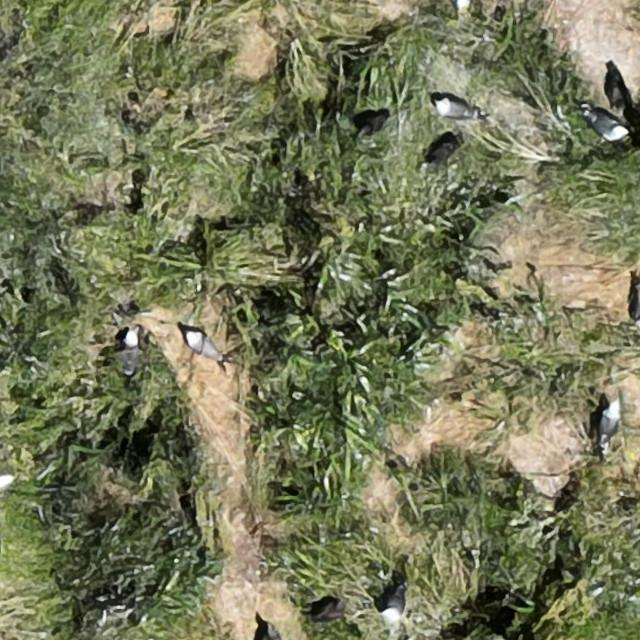umineko: (586, 113, 624, 140), (188, 332, 220, 360), (600, 402, 620, 439), (384, 587, 406, 620), (123, 334, 140, 374), (434, 100, 470, 118)
